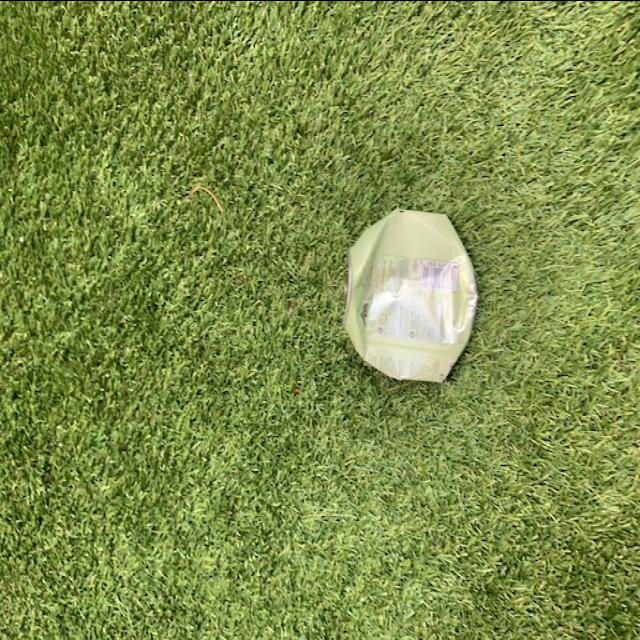Aluminum Can: (340, 200, 480, 389)
